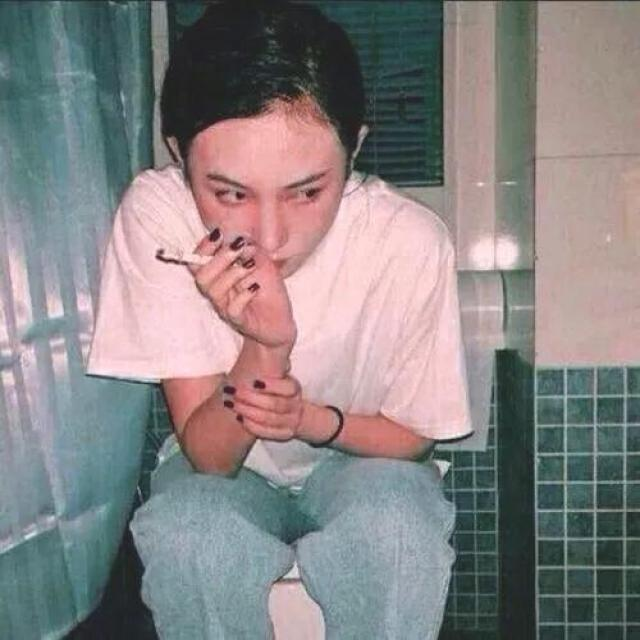smoke: (146, 224, 252, 285)
